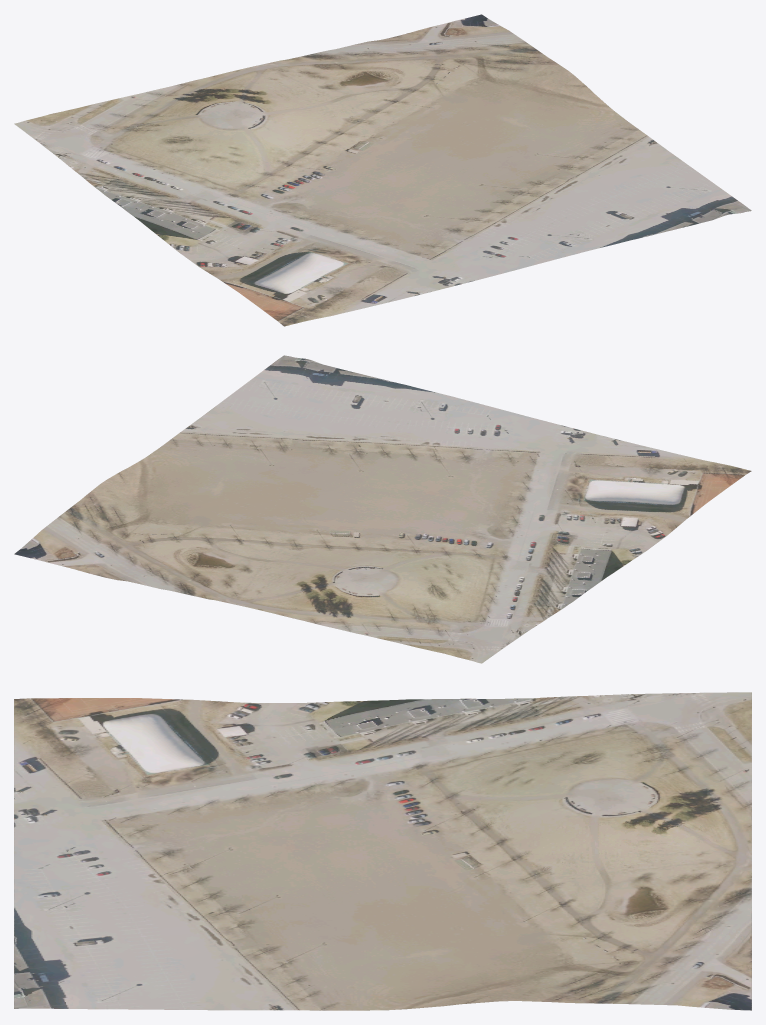
The model's file is CM_Terrain_24490458_6820818.fbx.
3 views of the same model, one above another, from view 1: azimuth 30°, elevation 25°; view 2: azimuth 150°, elevation 25°; view 3: azimuth 270°, elevation 25° (orthographic). The views are drawn at different scales.
Visible parts, largest first — view 1: CM_Terrain_24490458_6820818_LOD0; view 2: CM_Terrain_24490458_6820818_LOD0; view 3: CM_Terrain_24490458_6820818_LOD0.
Part boxes in pixels (x1,y1,x2,y2): CM_Terrain_24490458_6820818_LOD0: (14, 14, 751, 326); CM_Terrain_24490458_6820818_LOD0: (14, 355, 751, 663); CM_Terrain_24490458_6820818_LOD0: (14, 692, 751, 1010).
Size of what is drawn, in the model's own units: 205 by 6.07 by 205.
